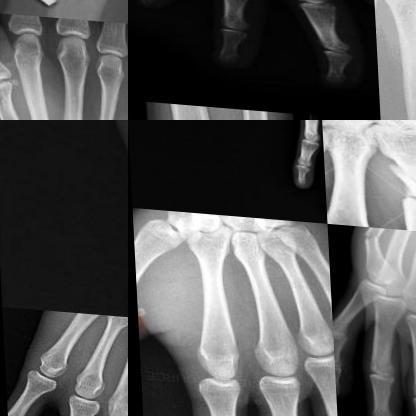fracture: (393, 173, 415, 215), (356, 222, 385, 249)
